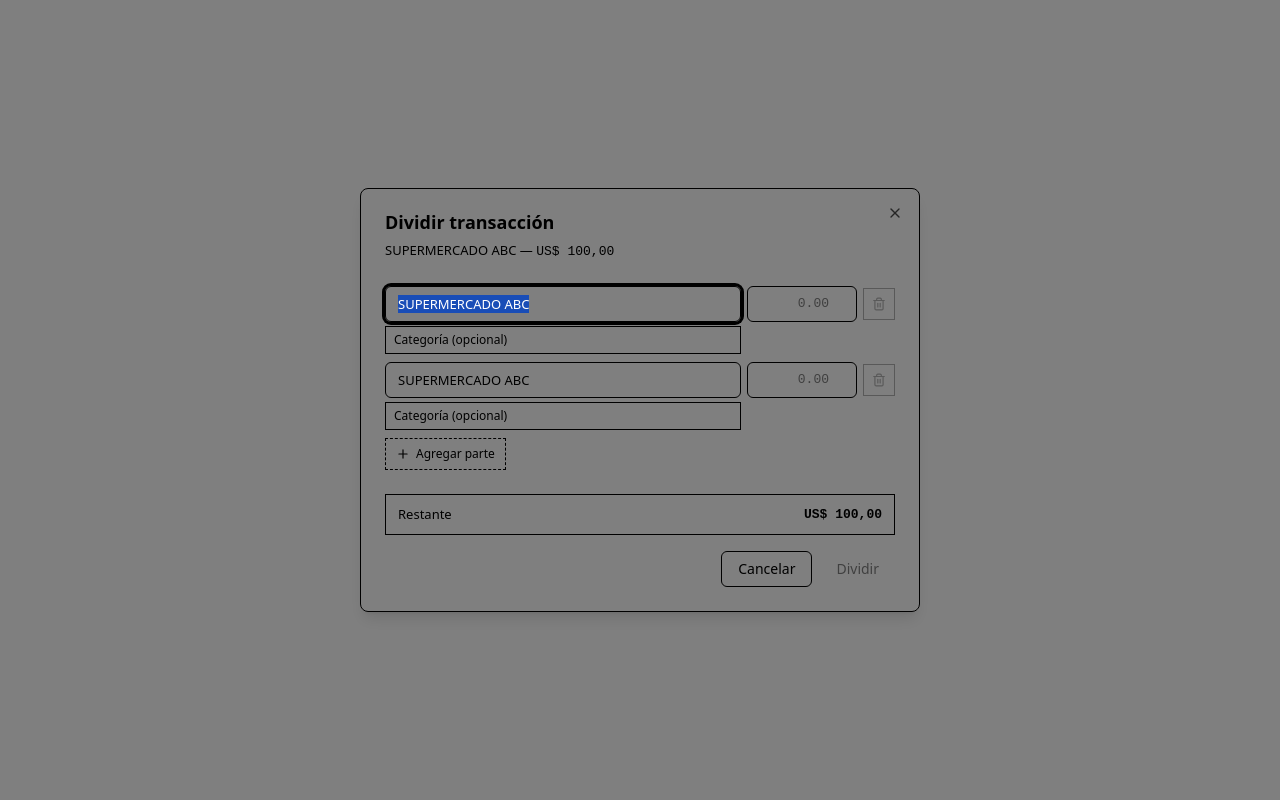
Test: SplitTransactionDialog › enables confirm button when amounts sum exactly to parent total
The image size is (1280, 800).
Type "60" into the 1st number field with placeholder "0.00" at x=802, y=304, box [747,286,857,322]
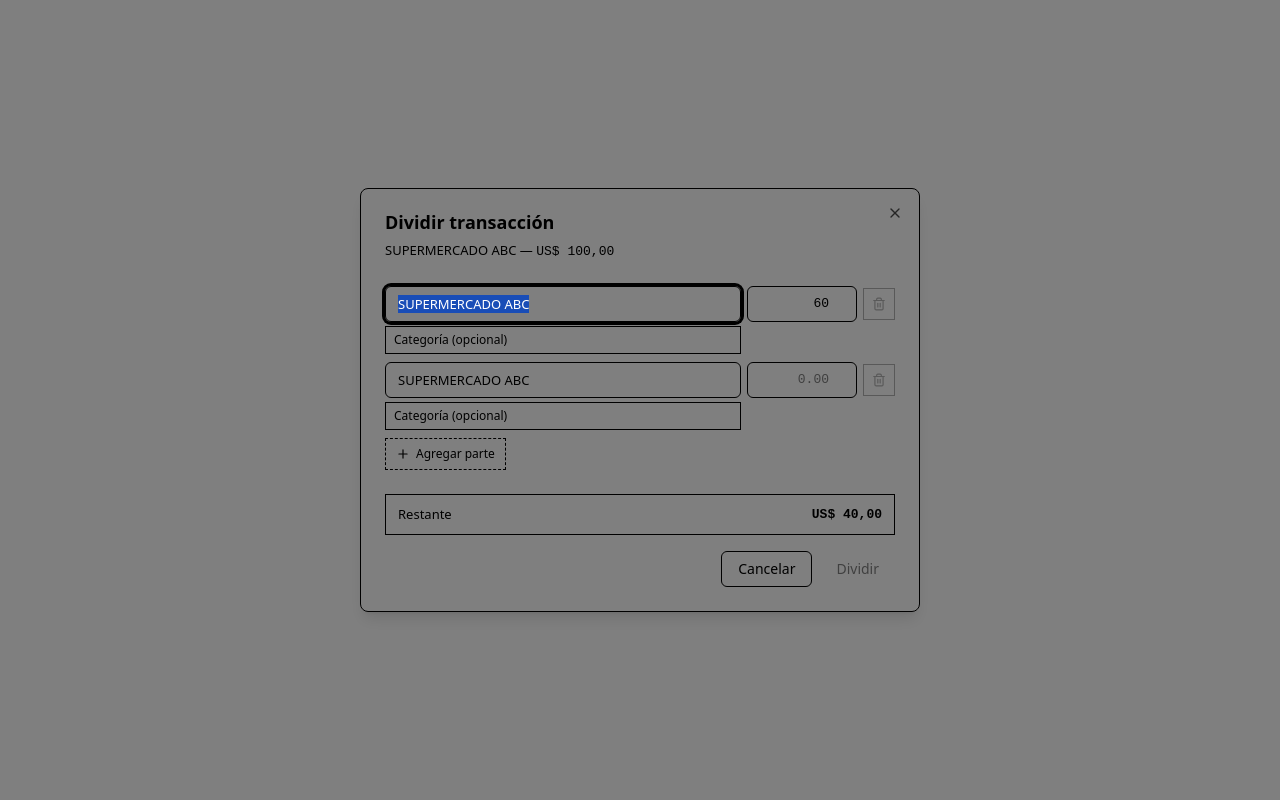
Type "40" into the number field with placeholder "0.00" at x=802, y=380, box [747,362,857,398]
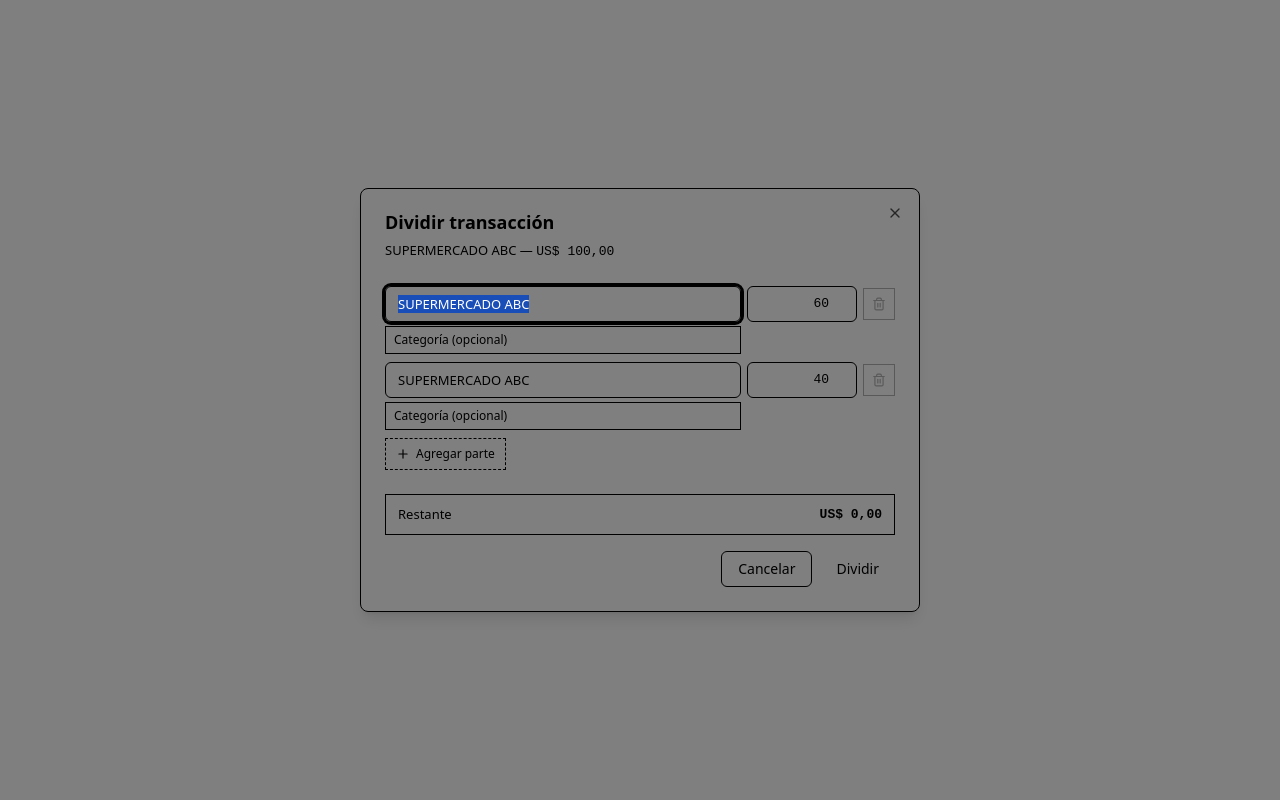
Expected: the button "Dividir" is enabled, [820,551,895,587]
